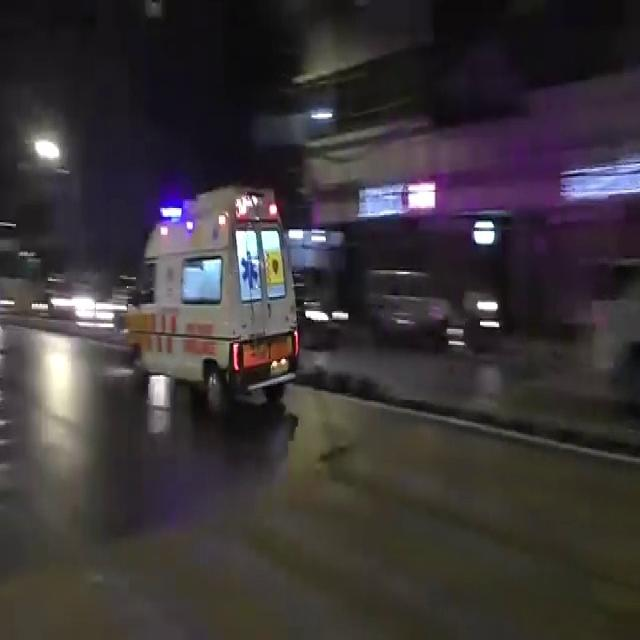ambulance: (121, 198, 297, 402)
